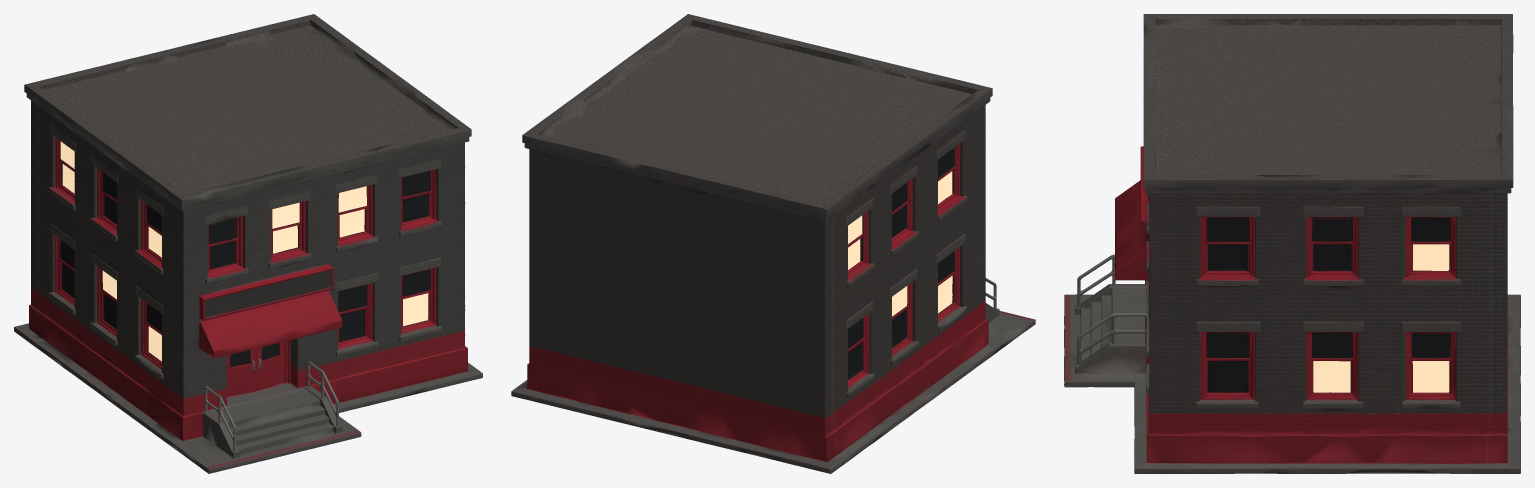
The model's file is crew-redkings-club.glb.
3 views of the same model, side by side, from view 1: azimuth 30°, elevation 25°; view 2: azimuth 150°, elevation 25°; view 3: azimuth 270°, elevation 25° (orthographic). The views are drawn at different scales.
Bounding box in the file's own units: 10.29 × 8 × 11.41.
Materials: 4 (4 with a texture image).
